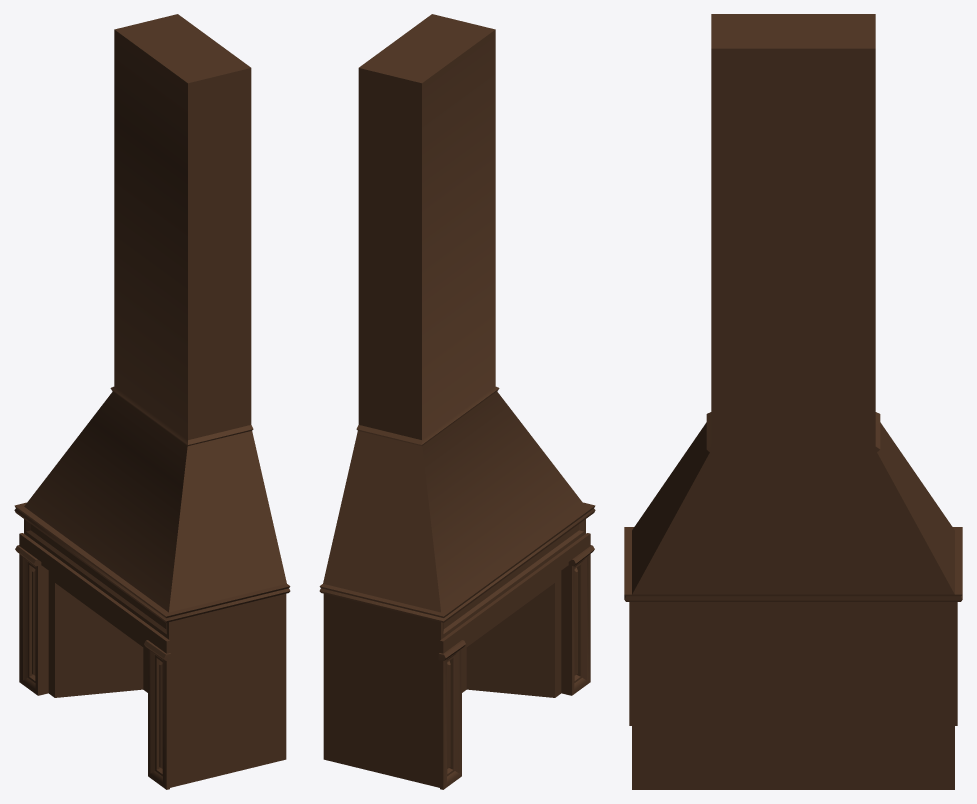
Rendered from fireplace.FBX.
3 renders of one model, left to right at view 1: azimuth 30°, elevation 25°; view 2: azimuth 150°, elevation 25°; view 3: azimuth 270°, elevation 25°, orthographic. The views are drawn at different scales.
Visible parts, largest first — view 1: Box001; view 2: Box001; view 3: Box001.
Part boxes in pixels (x1,y1,x2,y2): Box001: [14, 14, 290, 789]; Box001: [319, 14, 595, 789]; Box001: [624, 14, 962, 789].
Bounding box in the file's own units: 47.51 × 240 × 99.35.
